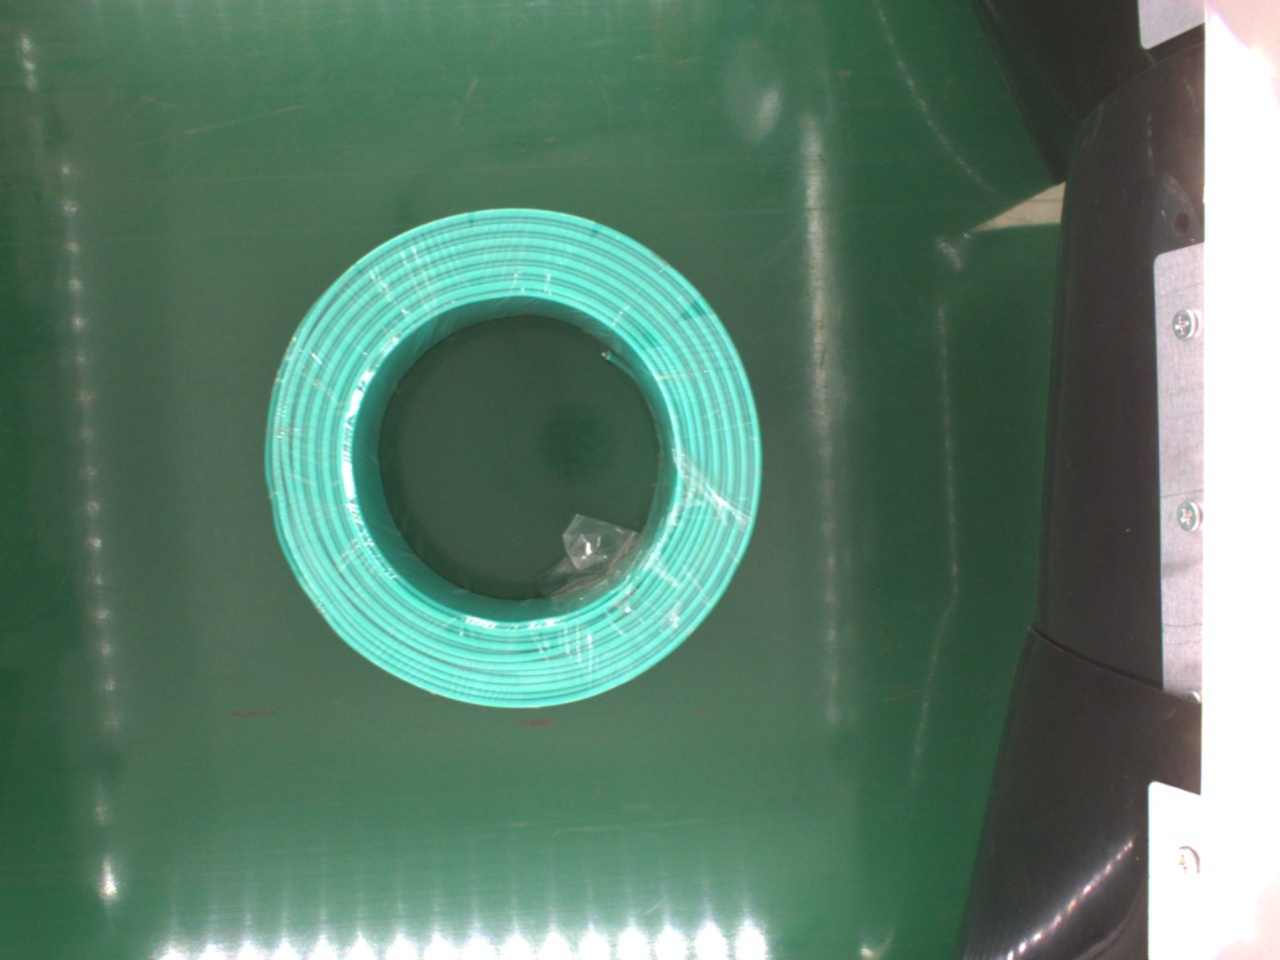green: (254, 201, 765, 714)
